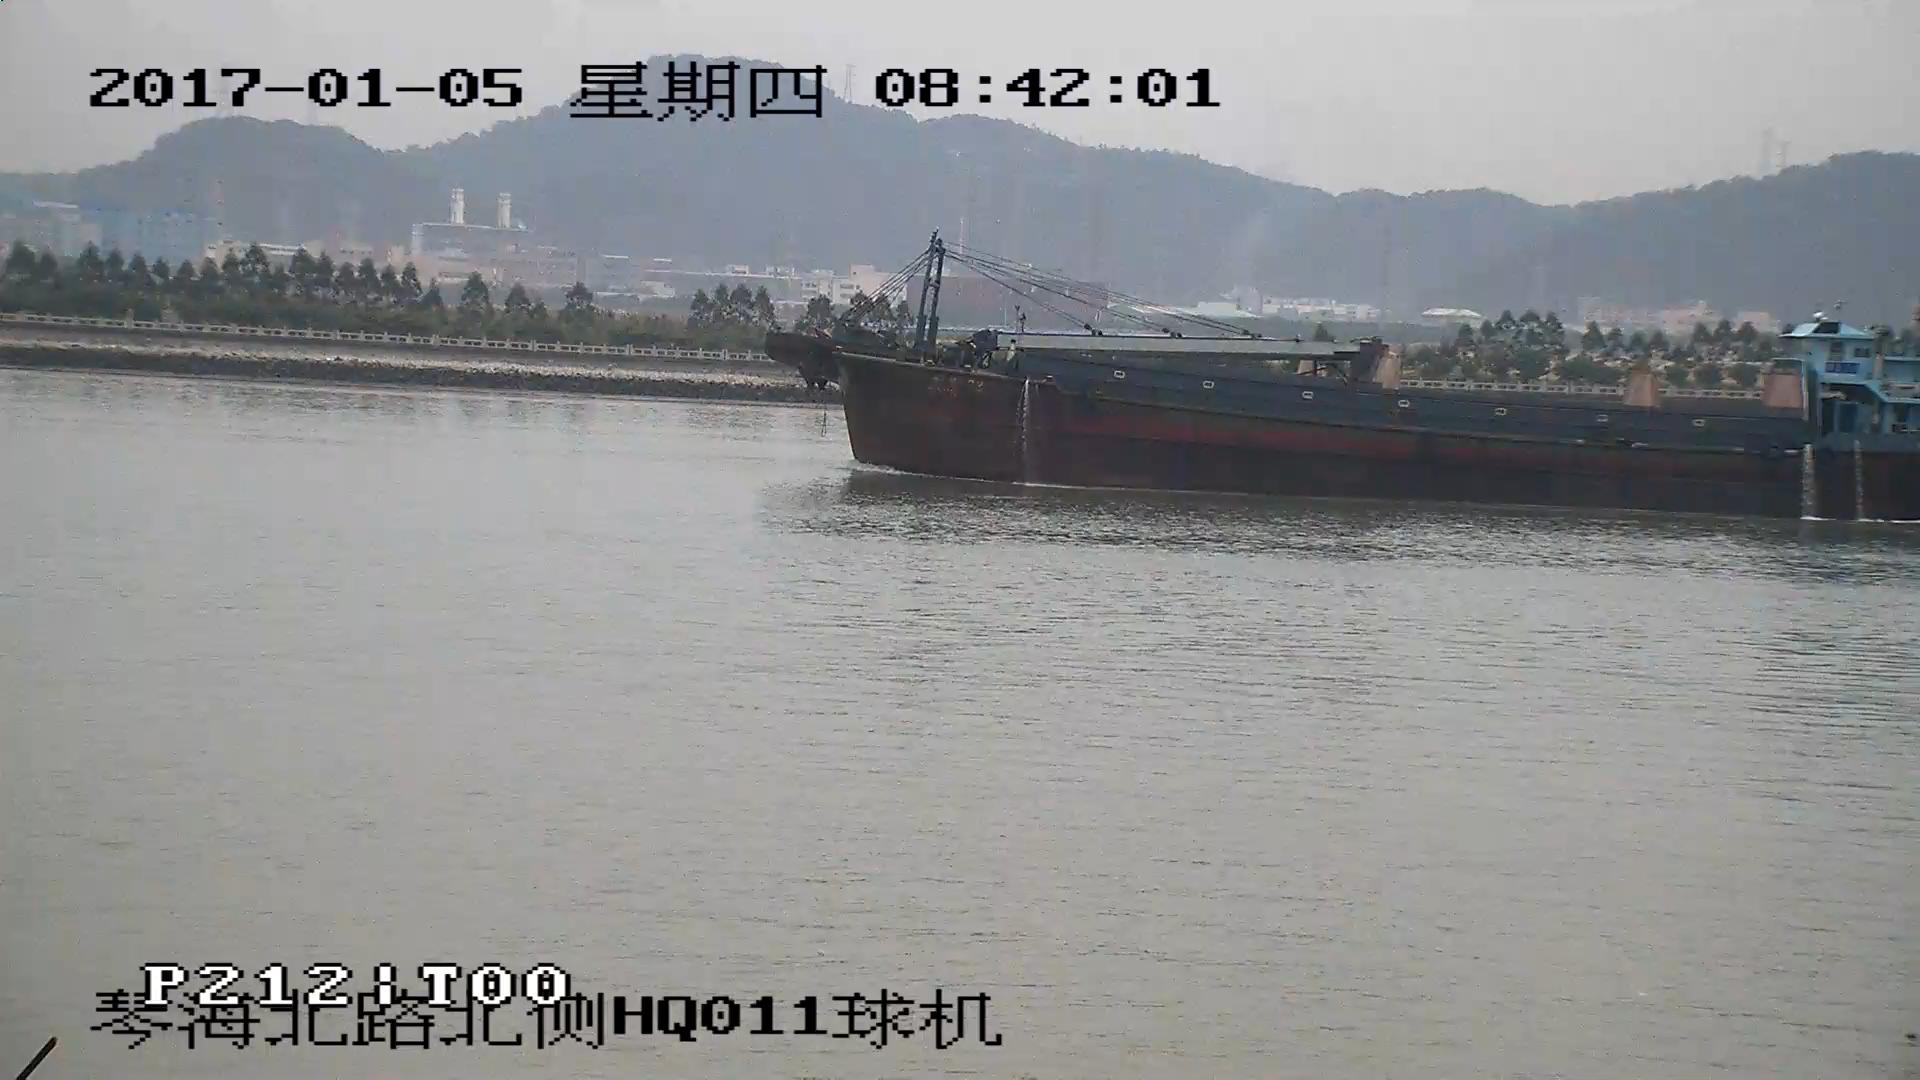bulk cargo carrier: (766, 244, 1920, 523)
